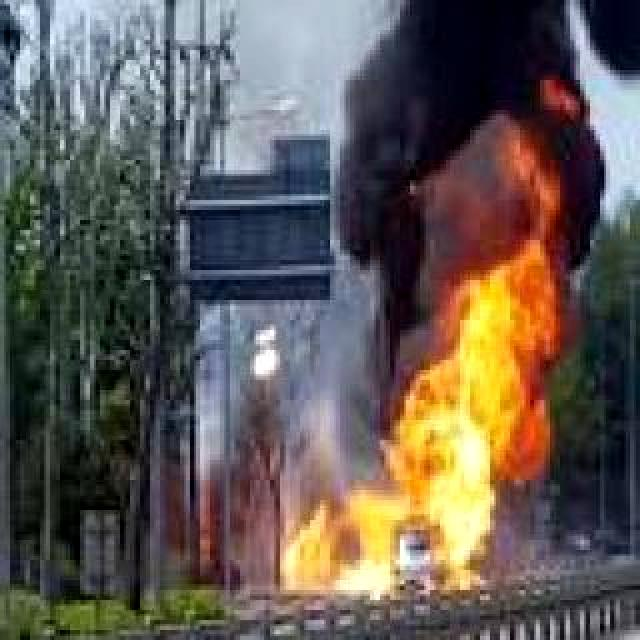fire: (268, 202, 565, 592)
